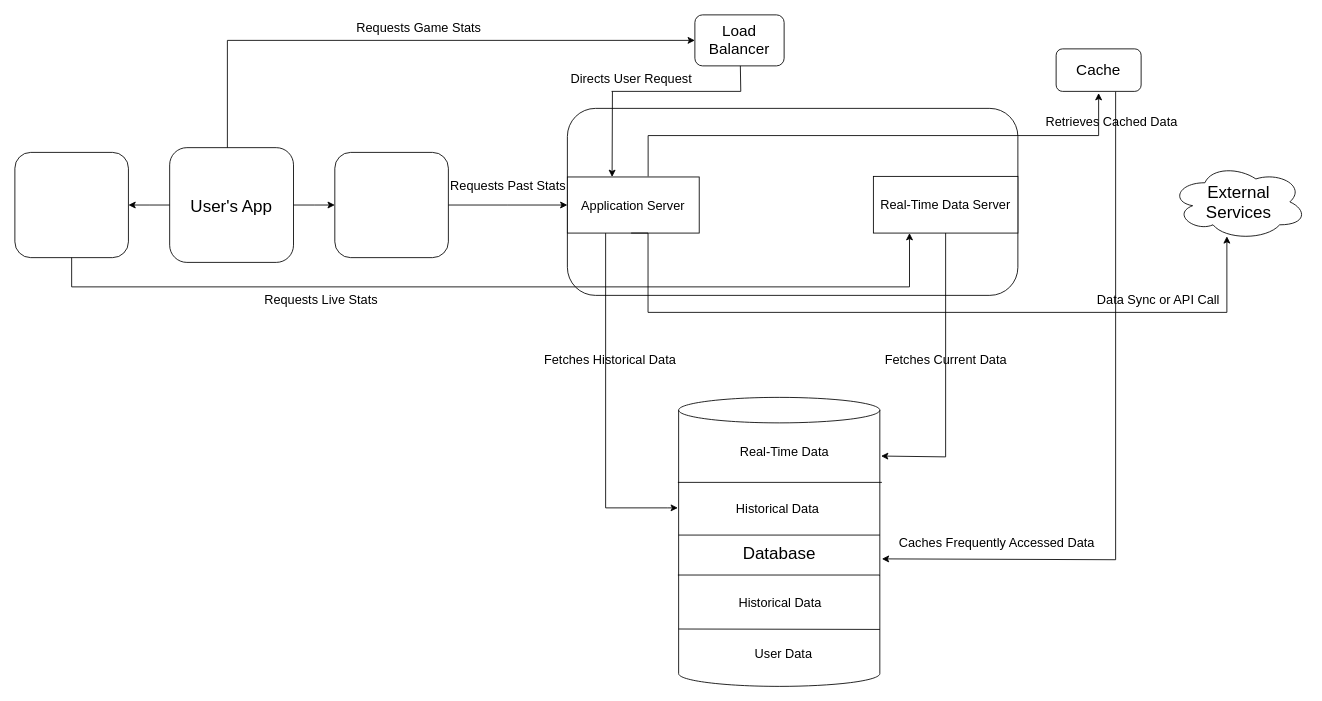
The diagram is 1322 pixels wide and 701 high, and some of its shapes have lost their labels. Here are the shapes that lost their labels. From the top down, the box of each, then its label:
(14, 152, 128, 258): Real-Time Data Display
(334, 152, 448, 258): Historical Data Display
(567, 108, 1018, 295): Backend
